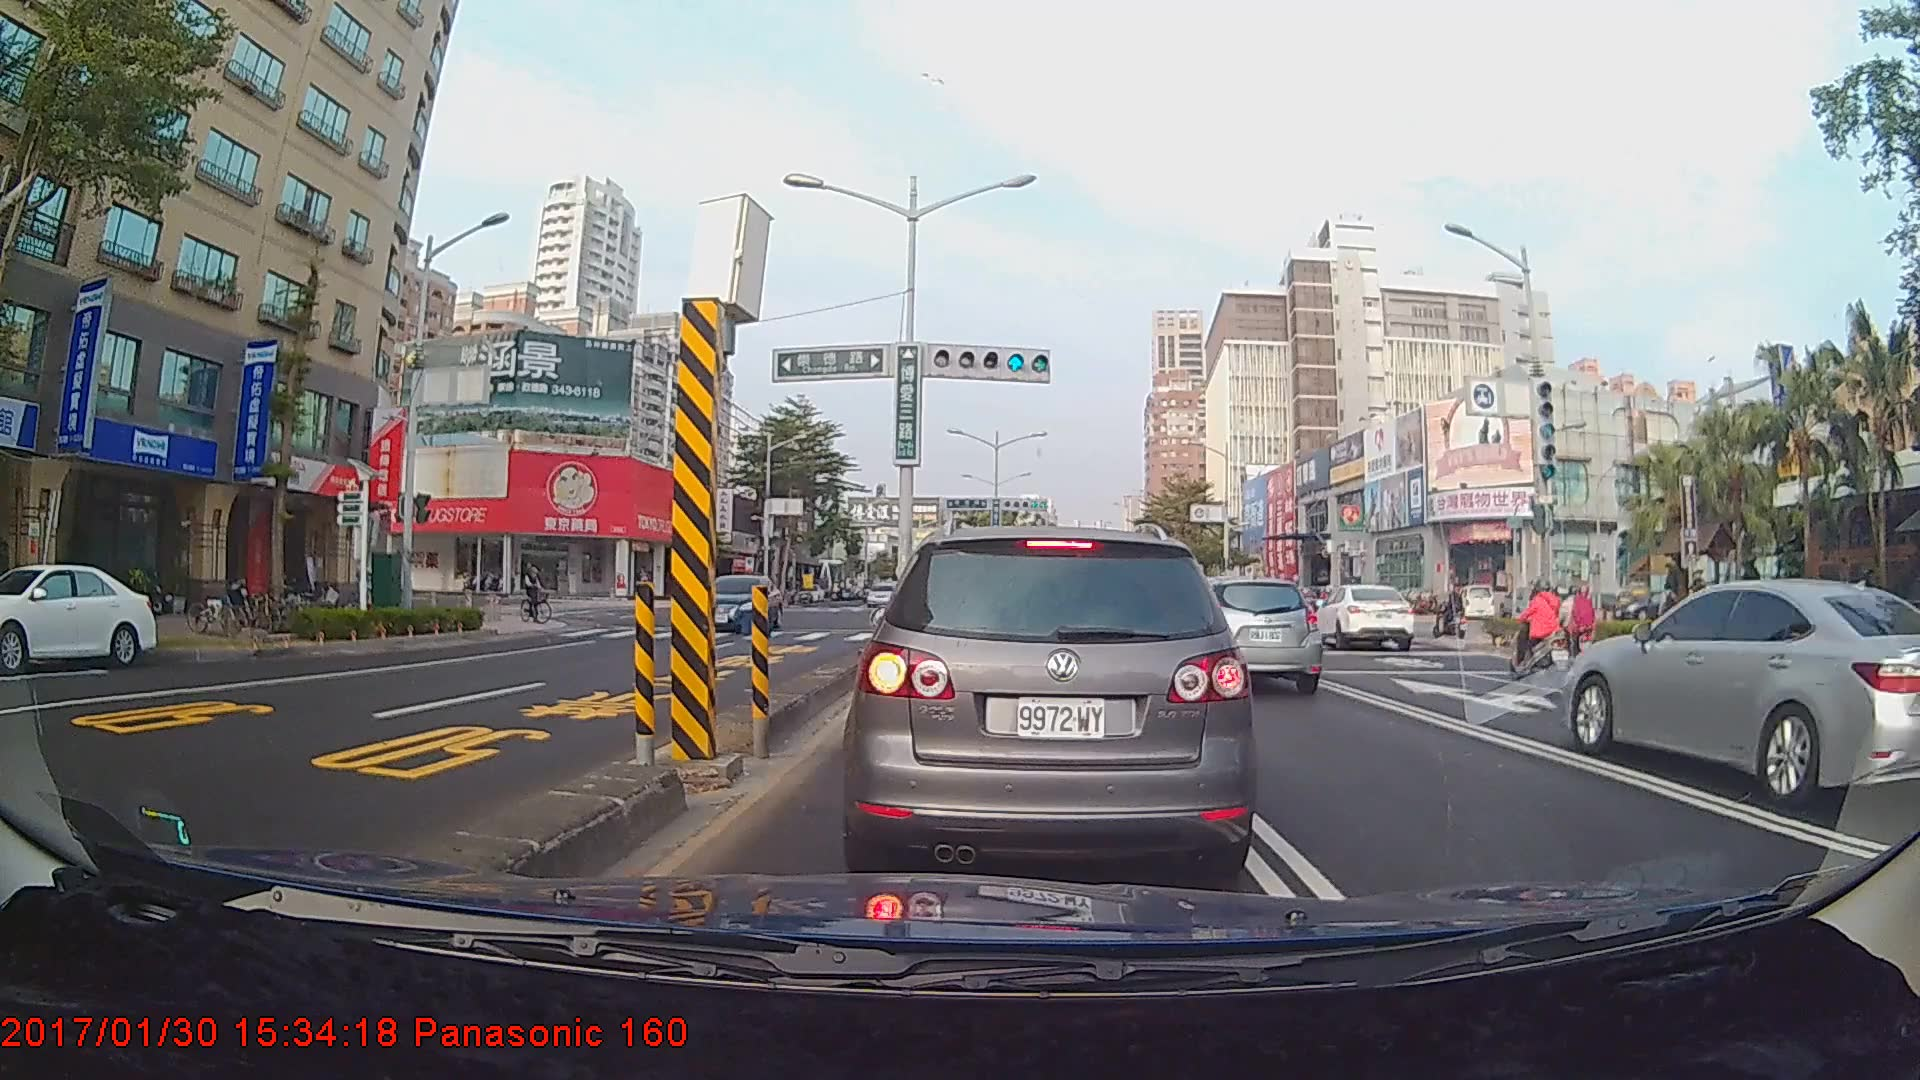pedestrian: (1661, 583, 1687, 641)
rider: (1515, 581, 1581, 695), (518, 559, 561, 629), (1432, 582, 1469, 646)
vehicle: (856, 523, 1247, 878), (1561, 577, 1919, 814), (1146, 575, 1323, 698), (0, 561, 158, 671), (1310, 582, 1414, 653), (694, 572, 783, 633), (864, 580, 903, 608)
